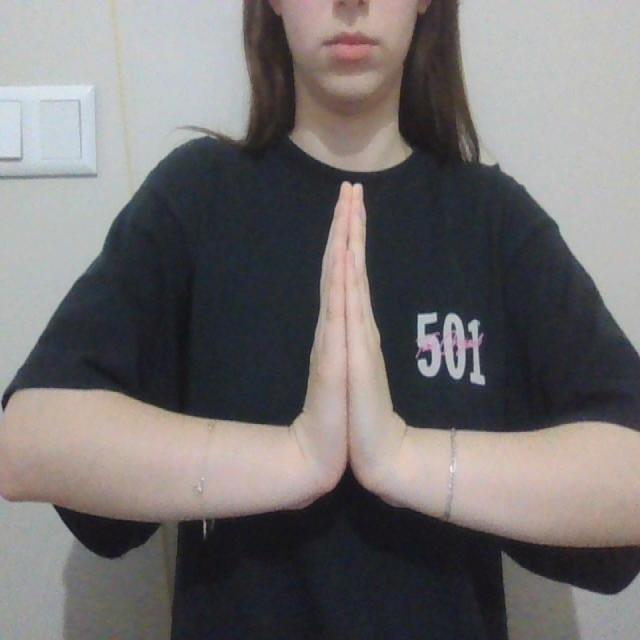Ozur-Dilemek: (281, 170, 418, 527)
